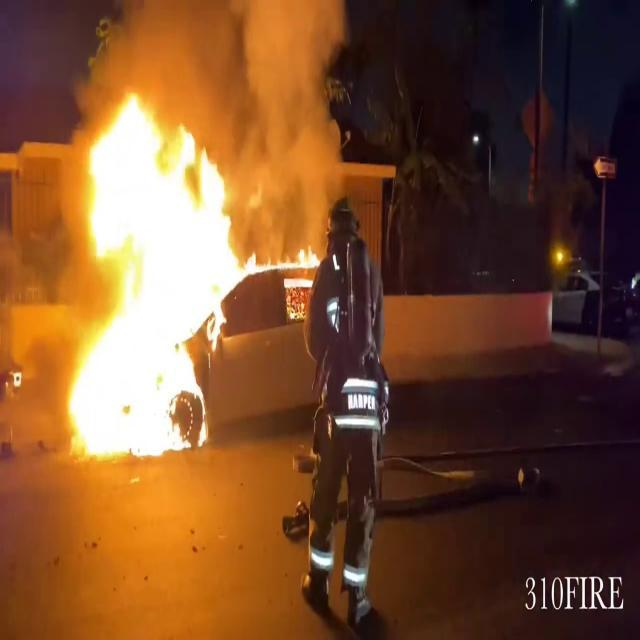Fire: (55, 82, 248, 466)
Smoke: (218, 1, 358, 232)
